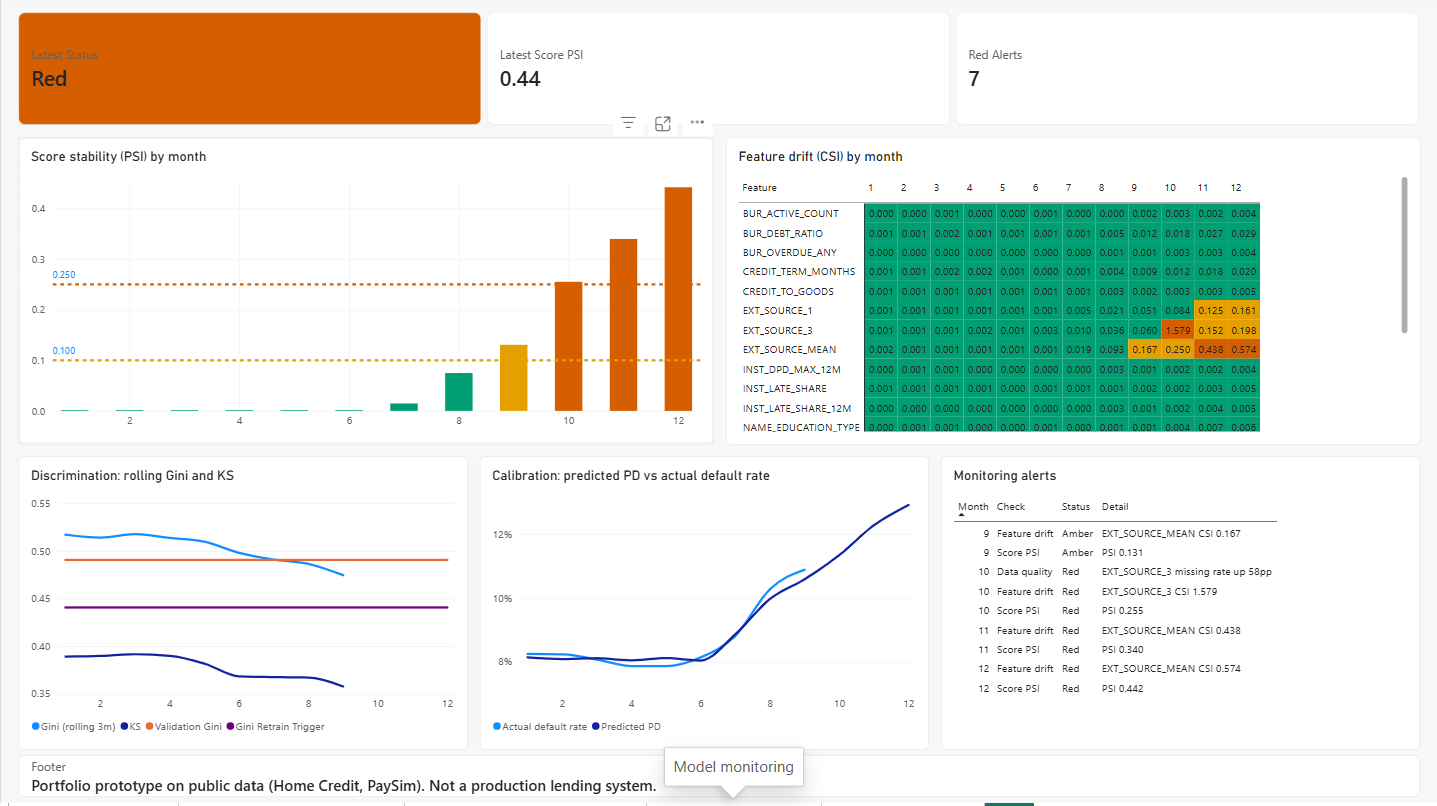

Layout of this report page (visuals, bound fields, positions):
{"tool":"powerbi","page":{"name":"Model monitoring","canvas":[1920,1080],"ordinal":3},"visuals":[{"type":"cardVisual","fields":{"Data":["_Measures.Latest Status","_Measures.Latest Score PSI","_Measures.Red Alerts"]},"box":[24,24,1872,150],"z":0},{"type":"clusteredColumnChart","title":"Score stability (PSI) by month","fields":{"Category":["monitoring_monthly.month"],"Y":["Sum(monitoring_monthly.score_psi)"]},"box":[24,190,928,410],"z":1},{"type":"lineChart","title":"Discrimination: rolling Gini and KS","fields":{"Category":["monitoring_monthly.month"],"Y":["Sum(monitoring_monthly.gini)","Sum(monitoring_monthly.ks)","_Measures.Validation Gini","_Measures.Gini Retrain Trigger"]},"box":[24,616,600,392],"z":2},{"type":"lineChart","title":"Calibration: predicted PD vs actual default rate","fields":{"Category":["monitoring_monthly.month"],"Y":["Sum(monitoring_monthly.actual_default_rate)","Sum(monitoring_monthly.mean_pd)"]},"box":[640,616,600,392],"z":3},{"type":"pivotTable","title":"Feature drift (CSI) by month","fields":{"Columns":["monitoring_csi.month"],"Rows":["monitoring_csi.feature"],"Values":["Sum(monitoring_csi.csi)"]},"box":[968,190,928,410],"z":4},{"type":"tableEx","title":"Monitoring alerts","fields":{"Values":["monitoring_alerts.month","monitoring_alerts.check","monitoring_alerts.status","monitoring_alerts.detail"]},"box":[1256,616,640,392],"z":5},{"type":"cardVisual","fields":{"Data":["_Measures.Footer"]},"box":[24,1016,1872,56],"z":6}]}

Visuals, with their boxes in screenshot pixels (x1, y1, x2, y2), scaled from the page's 1920x1080 canvas onto the 1437x806 screenshot:
cardVisual - _Measures.Latest Status x _Measures.Latest Score PSI: 18,18,1419,130
"Score stability (PSI) by month" clusteredColumnChart: 18,142,713,448
"Discrimination: rolling Gini and KS" lineChart: 18,460,467,752
"Calibration: predicted PD vs actual default rate" lineChart: 479,460,928,752
"Feature drift (CSI) by month" pivotTable: 724,142,1419,448
"Monitoring alerts" tableEx: 940,460,1419,752
cardVisual - _Measures.Footer: 18,758,1419,800
